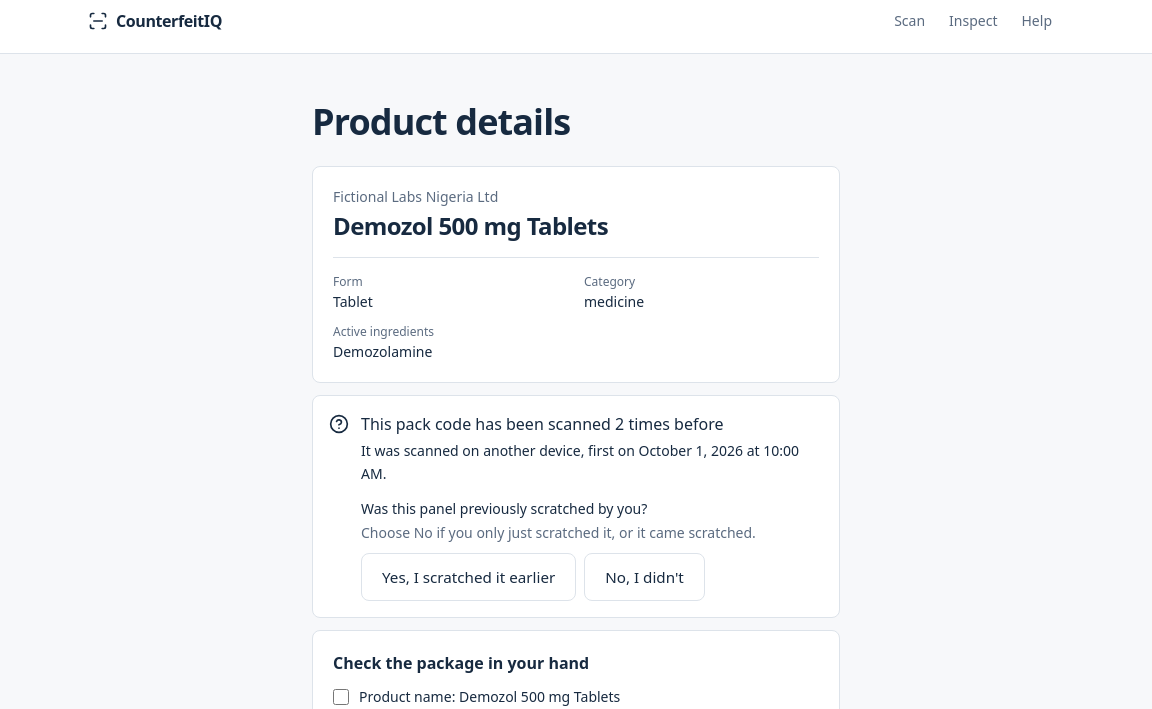
Test: repeat scans › raises no flag when the panel was scratched by this user earlier
Click the button "Yes, I scratched it earlier": [469, 577] box 361,553 -> 576,601
(page scrolled)
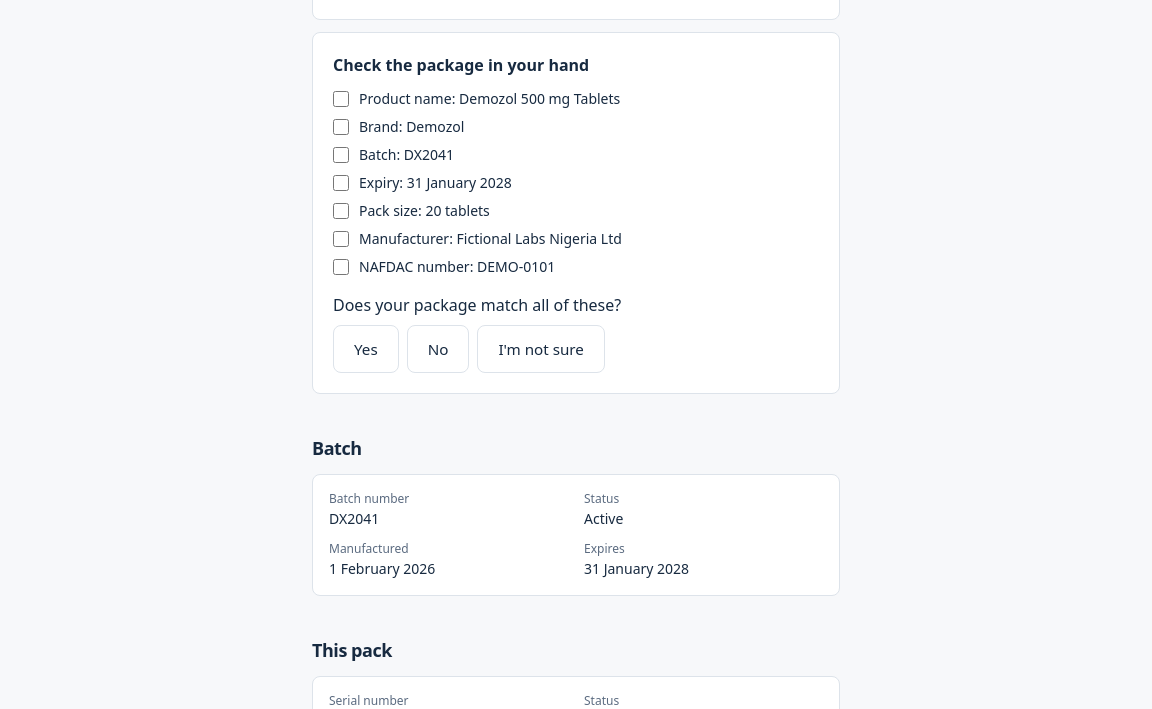
Click the button "Yes": [366, 349] box 333,325 -> 399,373
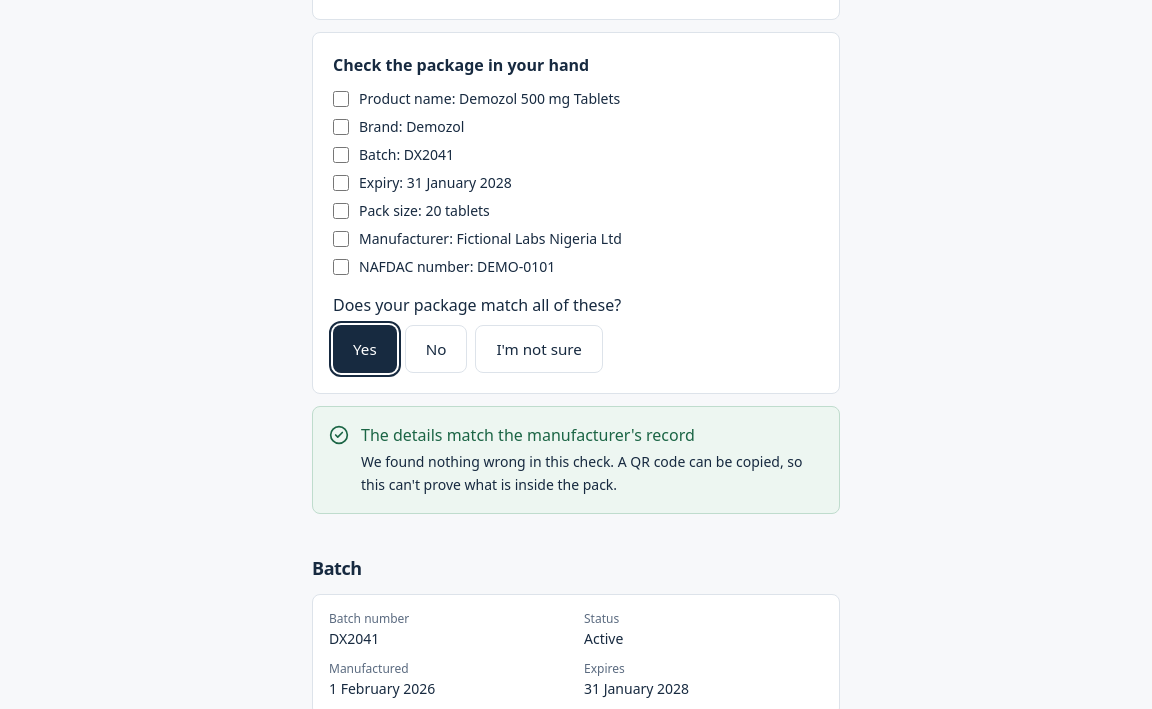
Expected: the text "The details match the manufacturer's record" is shown, 361,424 -> 695,446
